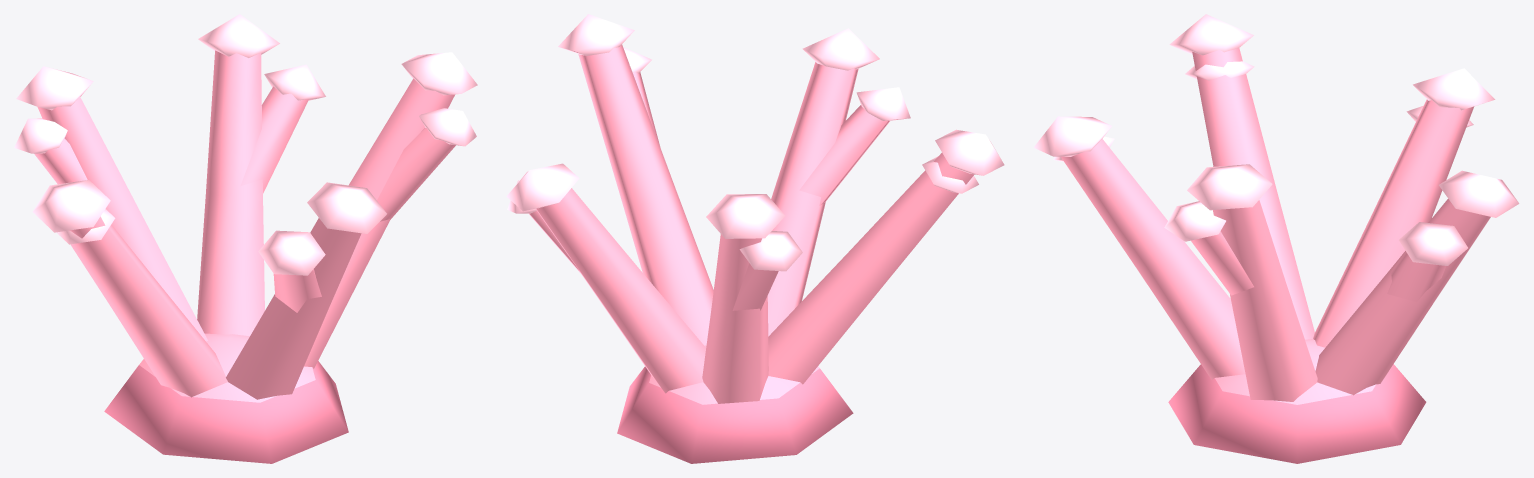
The model's file is coral-a.glb.
3 renders of one model, left to right at view 1: azimuth 30°, elevation 25°; view 2: azimuth 150°, elevation 25°; view 3: azimuth 270°, elevation 25°, orthographic. The views are drawn at different scales.
Parts seen in each view (by area): view 1: coral-a; view 2: coral-a; view 3: coral-a.
Boxes of the visible parts, left/top/right/bottom form: coral-a: left=14, top=14, right=477, bottom=463; coral-a: left=506, top=14, right=1004, bottom=463; coral-a: left=1034, top=14, right=1519, bottom=463.
Bounding box in the file's own units: 4 × 3 × 4.
